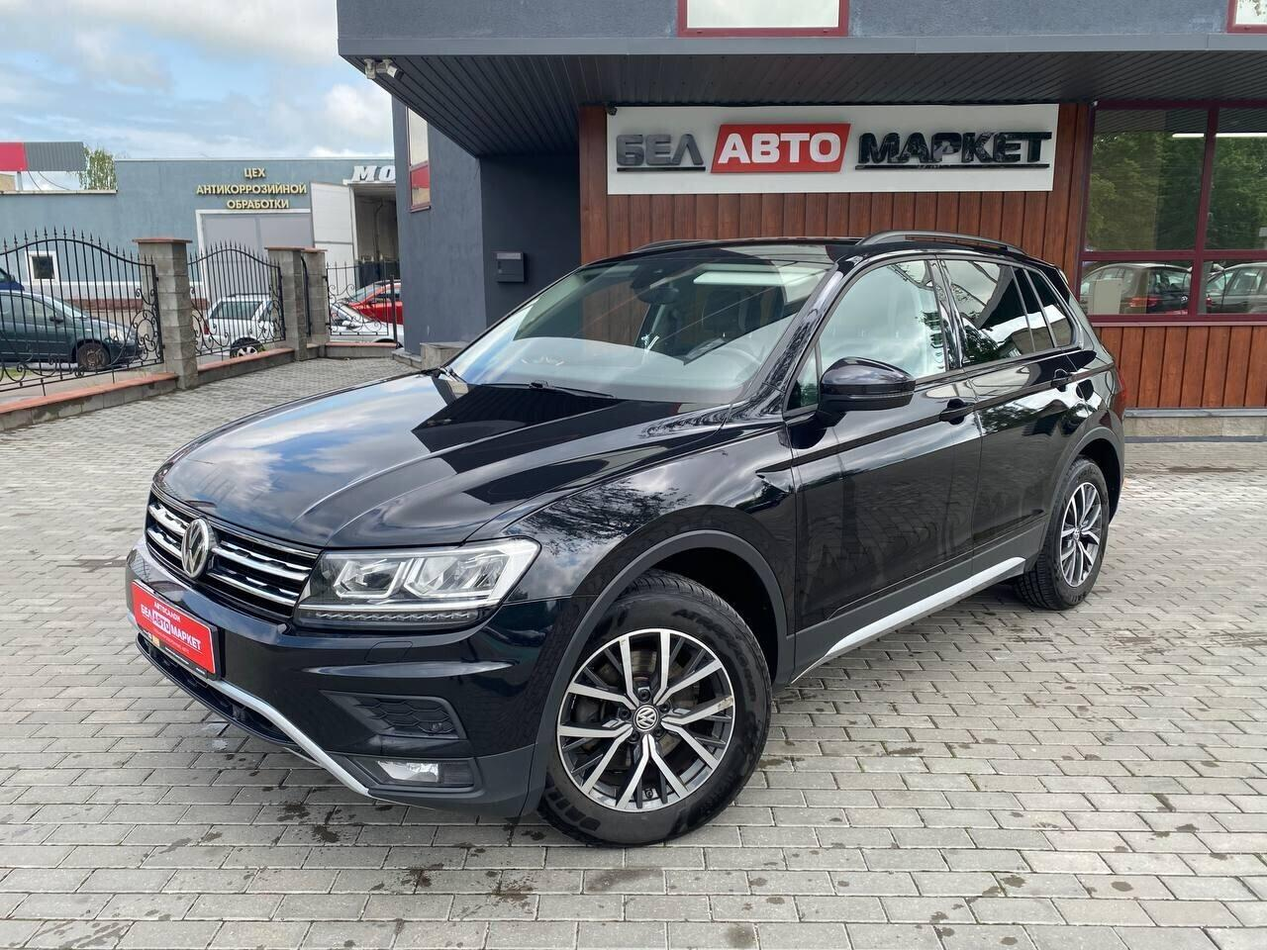Tiguan_2016-2021: (126, 234, 1132, 852)
